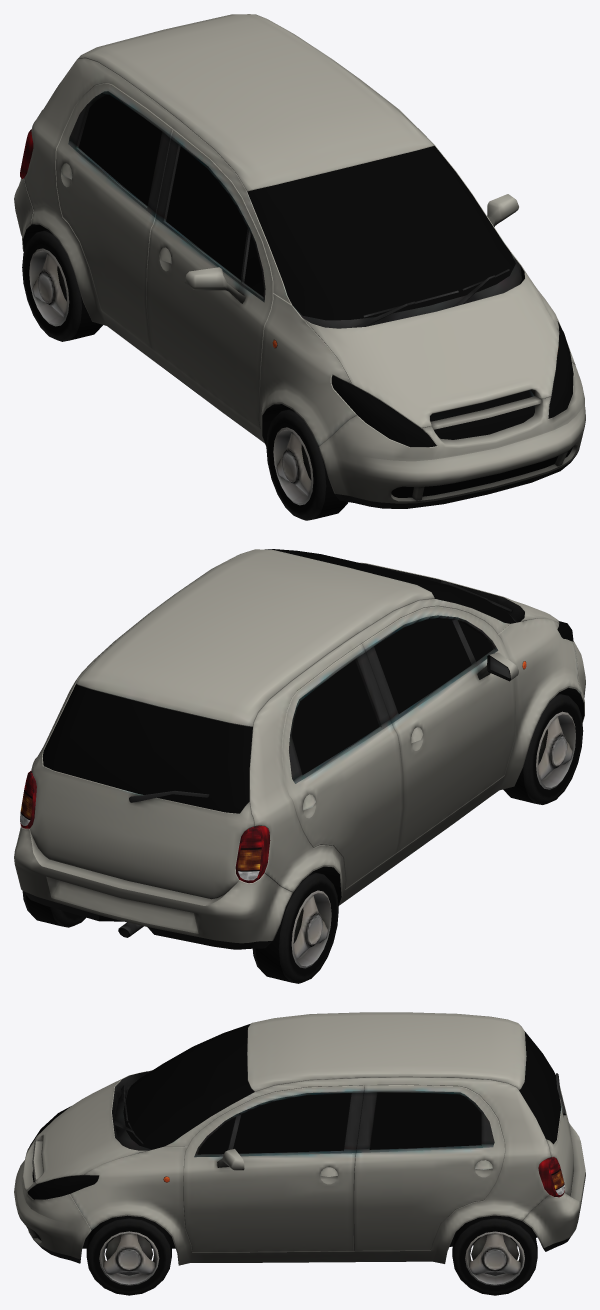
Rendered from compact_pearl.glb.
3 views of the same model, one above another, from view 1: azimuth 30°, elevation 25°; view 2: azimuth 150°, elevation 25°; view 3: azimuth 270°, elevation 25° (orthographic). The views are drawn at different scales.
Visible parts, largest first — view 1: compact body, Front Right Wheel, Rear Right Wheel; view 2: compact body, Rear Right Wheel, Front Right Wheel, Rear Left Wheel; view 3: compact body, Rear Left Wheel, Front Left Wheel.
Boxes of the visible parts, <box> form: compact body: <box>14,14,585,508</box>; Front Right Wheel: <box>266,409,348,520</box>; Rear Right Wheel: <box>22,229,102,341</box>; compact body: <box>14,549,585,949</box>; Rear Right Wheel: <box>252,871,338,983</box>; Front Right Wheel: <box>503,693,583,804</box>; Rear Left Wheel: <box>22,891,85,927</box>; compact body: <box>14,1012,585,1265</box>; Rear Left Wheel: <box>452,1215,537,1295</box>; Front Left Wheel: <box>86,1215,171,1295</box>.
Size of the model in its own units: 1.61 by 1.32 by 3.26.
Materials: 1 (1 with a texture image).
